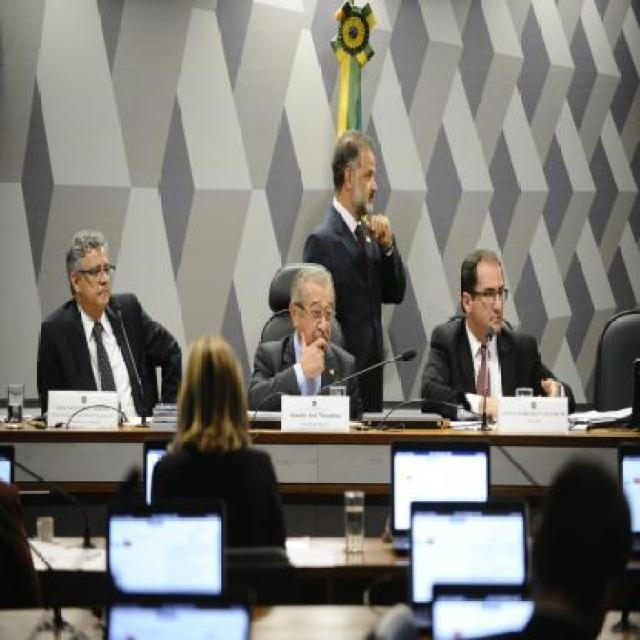obstacle: (37, 224, 188, 496), (304, 122, 414, 418), (152, 342, 290, 556), (420, 245, 582, 423), (501, 454, 636, 640), (242, 265, 362, 424)
